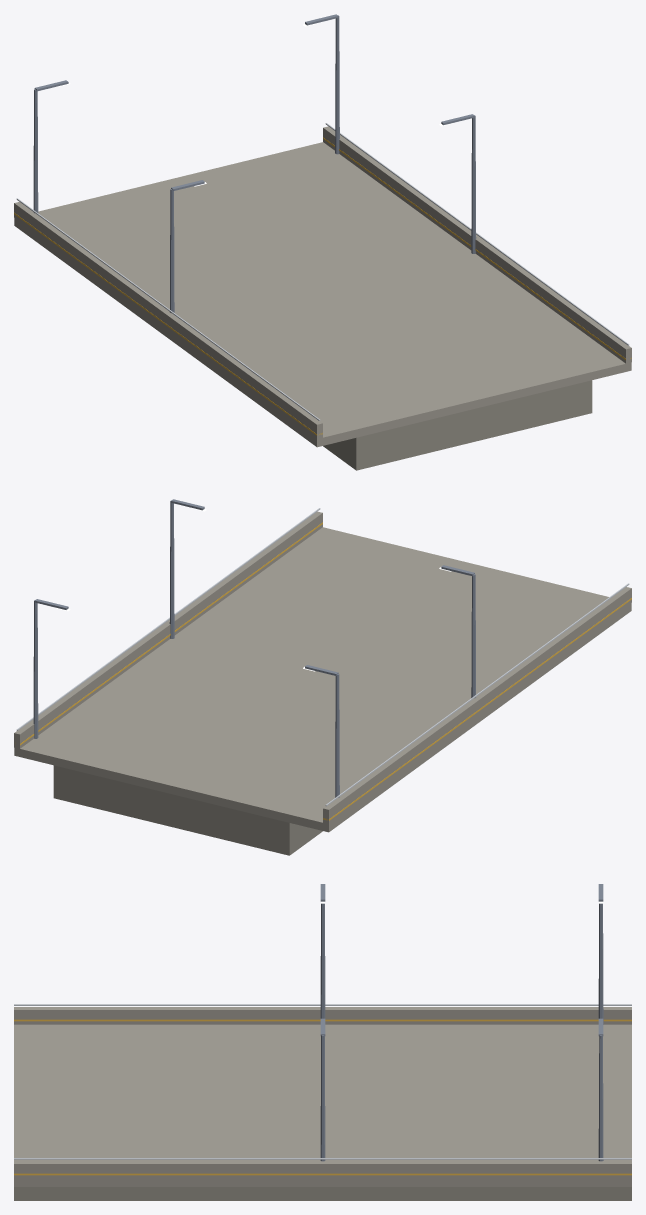
File: bridge_branch_segment.glb
3 renders of one model, top to bottom at view 1: azimuth 30°, elevation 25°; view 2: azimuth 150°, elevation 25°; view 3: azimuth 270°, elevation 25°, orthographic. The views are drawn at different scales.
Parts seen in each view (by area): view 1: bridge_branch; view 2: bridge_branch; view 3: bridge_branch.
Boxes of the visible parts, x1=… form: bridge_branch: x1=14, y1=14, x2=631, y2=470; bridge_branch: x1=14, y1=499, x2=631, y2=855; bridge_branch: x1=14, y1=884, x2=631, y2=1200.
Bounding box in the file's own units: 24.03 × 13.07 × 40.
